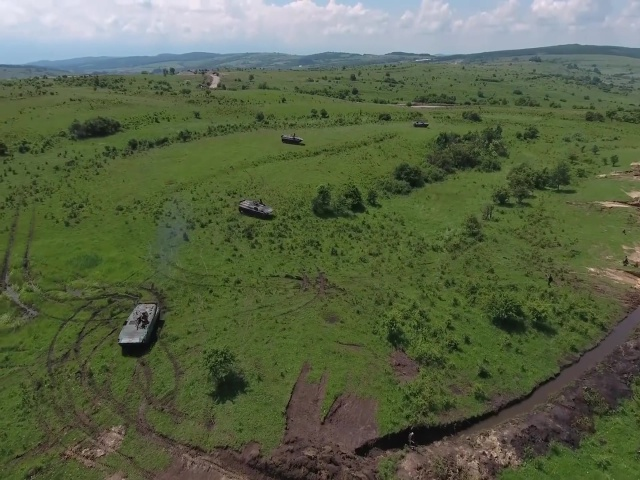vehicle: (115, 300, 162, 350), (237, 198, 275, 219), (280, 132, 303, 145), (413, 121, 430, 129)
